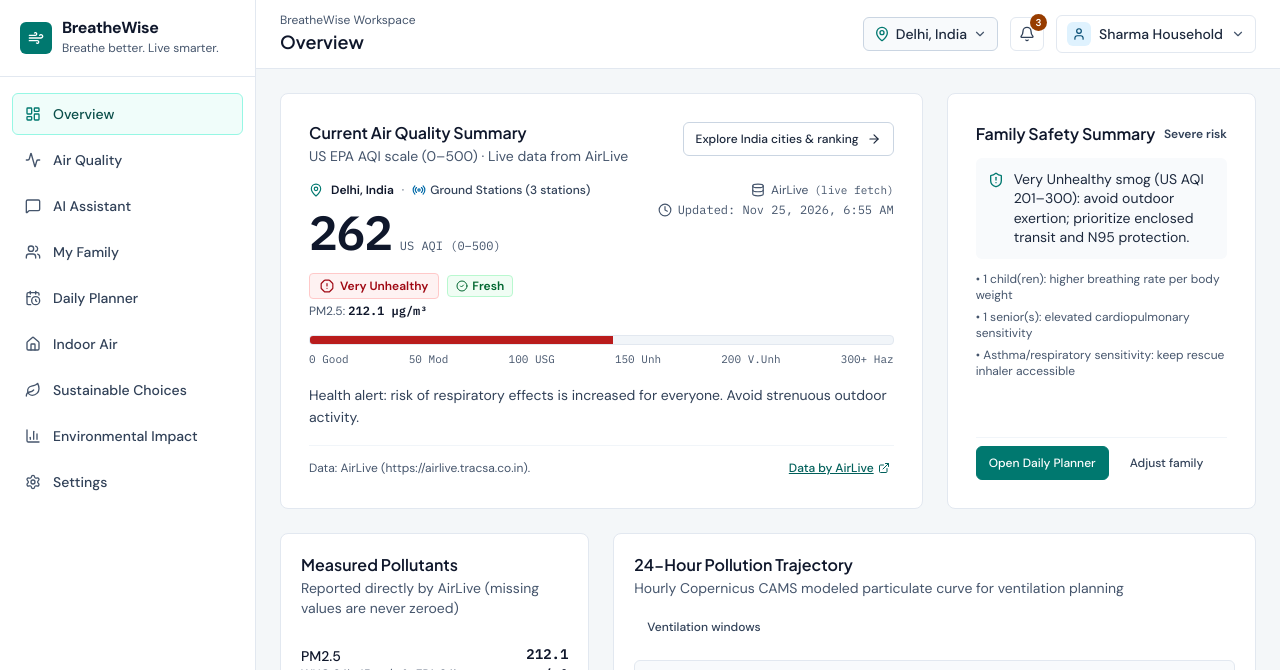
BreatheWise AirLive + Gemini UI Integration › supports searchable header location selector switching to a stale model-based location with null PM2.5
Check: the text with test id "aqi-value" reads "262", box x1=309 y1=201 x2=392 y2=263
Step 1. Click the button with aria-label "Select monitoring location" → x=930, y=34, box x1=863 y1=17 x2=998 y2=51
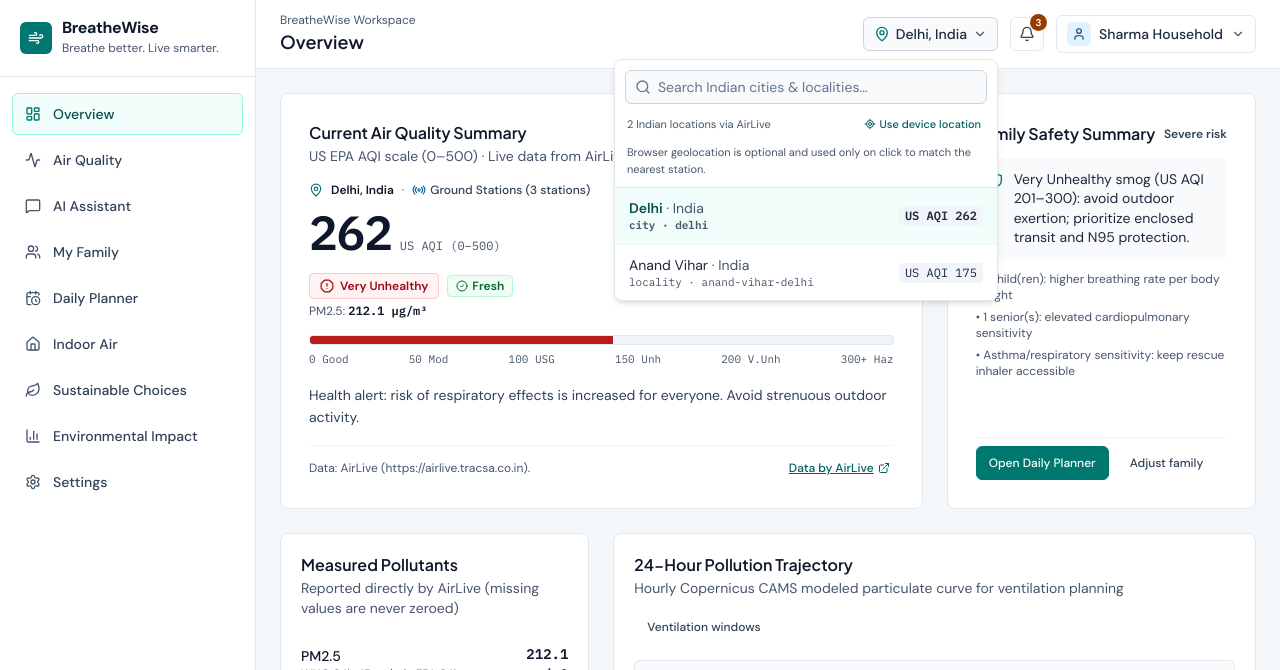
Step 2. Type "Anand" into the field named "Search Indian locations" → x=806, y=87, box x1=625 y1=70 x2=987 y2=104
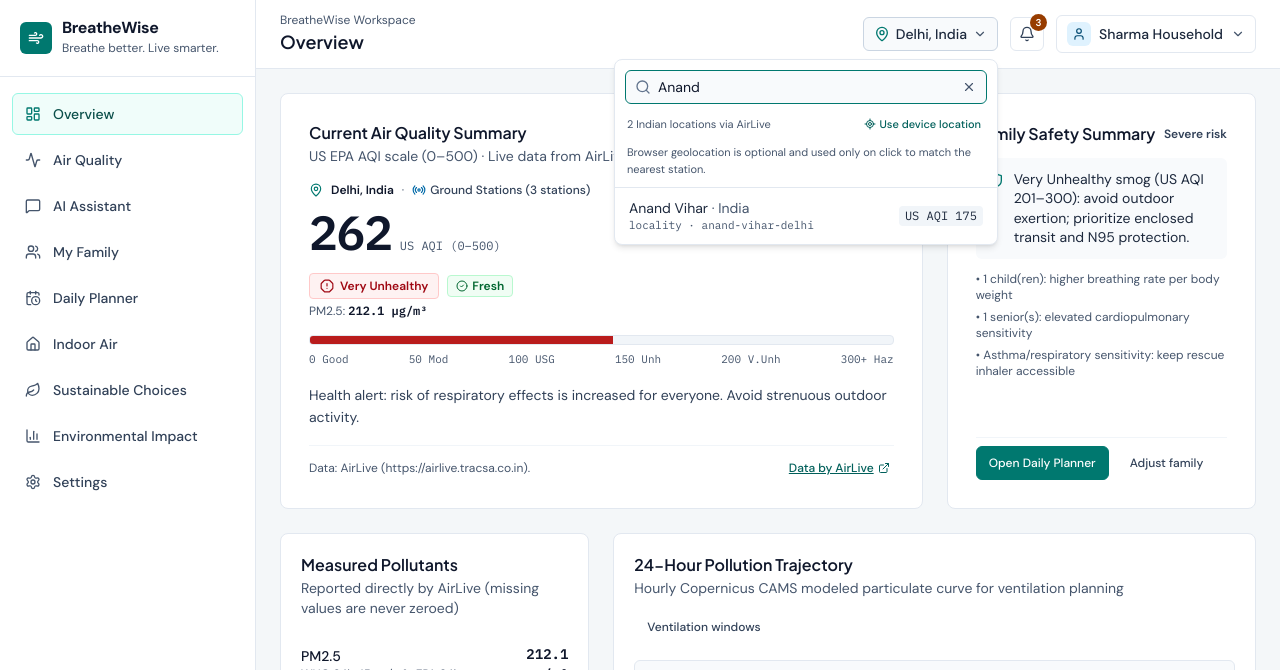
Step 3. Click the option "Anand Vihar · India locality · anand-vihar-delhi US AQI 175" → x=806, y=216, box x1=615 y1=188 x2=997 y2=244
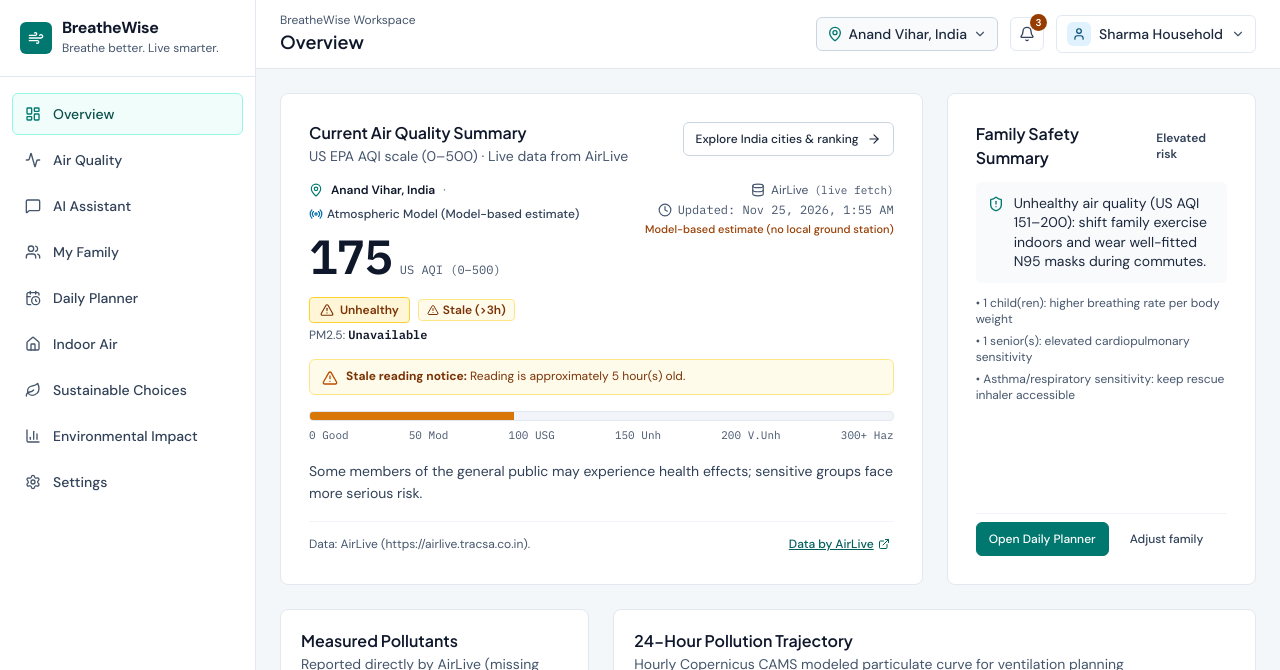
Check: the text with test id "aqi-value" reads "175", box x1=309 y1=225 x2=392 y2=287
Check: the text with test id "pm25-value" reads "Unavailable", box x1=348 y1=327 x2=428 y2=342
Check: the element with test id "freshness-badge" reads "Stale (>3h)", box x1=443 y1=302 x2=506 y2=318
